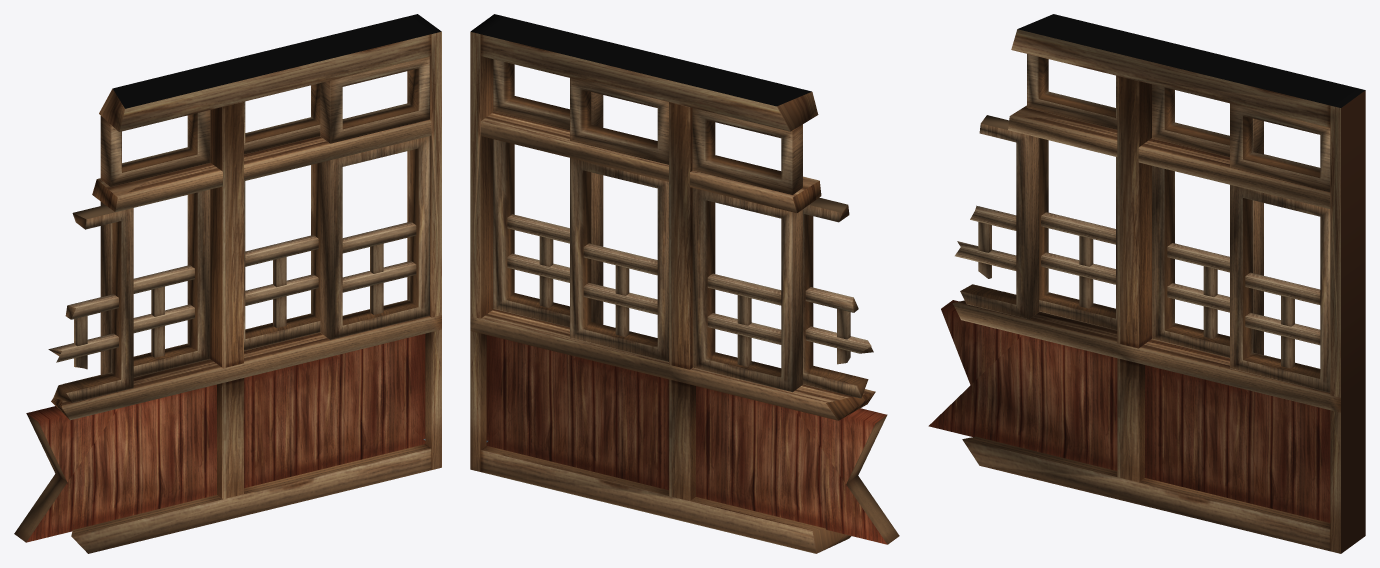
File: a_SWGwall01B_01.glb
The picture shows the model from 3 angles, left to right: view 1: azimuth 30°, elevation 25°; view 2: azimuth 150°, elevation 25°; view 3: azimuth 330°, elevation 25°; orthographic projection. The views are drawn at different scales.
Parts seen in each view (by area): view 1: a_SWGwall01B_01; view 2: a_SWGwall01B_01; view 3: a_SWGwall01B_01.
Boxes of the visible parts, bbox=[...] form: a_SWGwall01B_01: bbox=[14, 14, 441, 553]; a_SWGwall01B_01: bbox=[470, 14, 899, 553]; a_SWGwall01B_01: bbox=[928, 14, 1365, 553].
Size of the model in its own units: 2.95 by 3 by 0.3004.
Materials: 3 (3 with a texture image).
